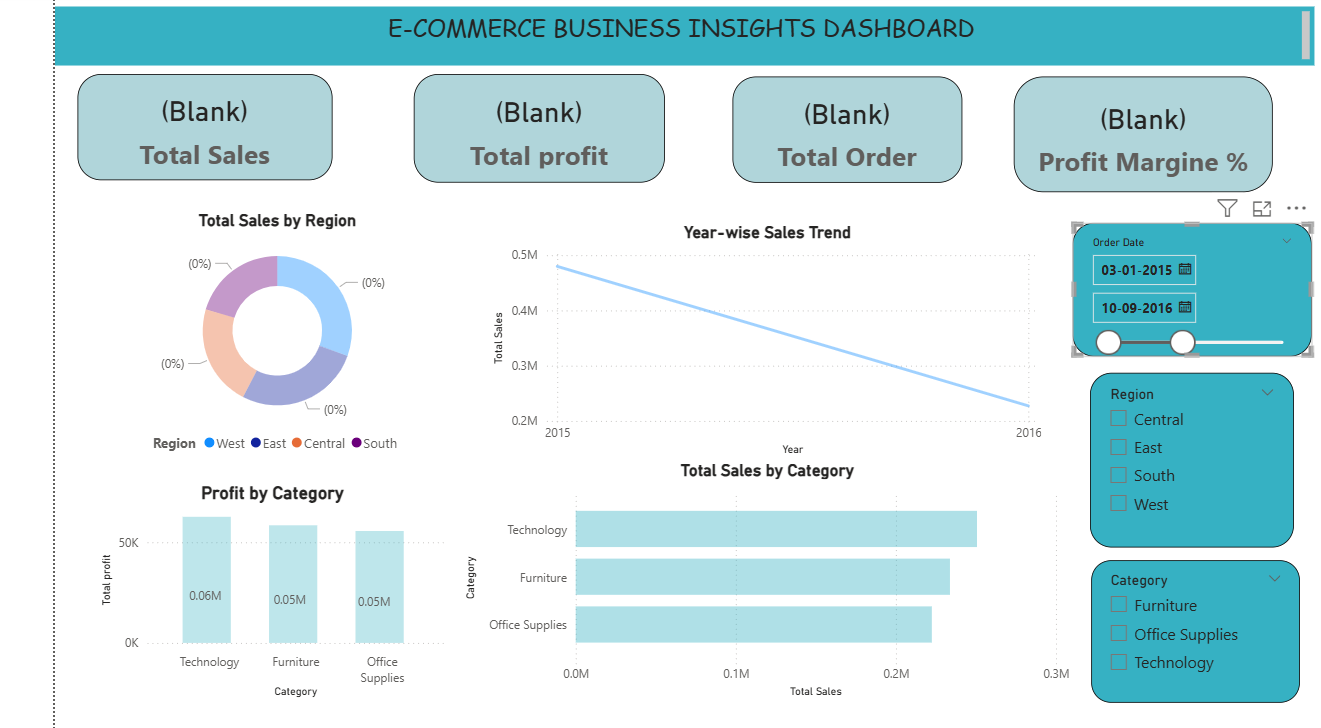

This screenshot's page, from the dashboard's own definition file:
{"tool":"powerbi","page":{"name":"Dashboard ","canvas":[1296,748],"ordinal":6},"visuals":[{"type":"card","fields":{"Values":["train.Total Sales"]},"box":[23.2,81.9,259.2,107.6],"z":0},{"type":"card","fields":{"Values":["train.Total profit"]},"box":[364.4,81.9,255.6,110.1],"z":1000},{"type":"card","fields":{"Values":["train.Total Order"]},"box":[688.5,84.4,233.6,107.6],"z":2000},{"type":"card","fields":{"Values":["train.Profit Margine %"]},"box":[974.6,84.4,262.9,117.4],"z":2001},{"type":"lineChart","title":"Year-wise Sales Trend","fields":{"Y":["train.Total Sales"],"Category":["train.Order Date.Variation.Date Hierarchy.Year","train.Order Date.Variation.Date Hierarchy.Quarter","train.Order Date.Variation.Date Hierarchy.Month","train.Order Date.Variation.Date Hierarchy.Day"]},"box":[448.8,232.3,566.2,242.1],"z":2002},{"type":"donutChart","fields":{"Category":["train.Region"],"Y":["train.Total Sales"]},"box":[41.6,207.9,407.2,255.6],"z":2003},{"type":"clusteredBarChart","fields":{"Y":["train.Total Sales"],"Category":["train.Category"]},"box":[412.1,474.5,624.9,245.8],"z":2004},{"type":"clusteredColumnChart","title":"Profit by Category","fields":{"Category":["train.Category"],"Y":["train.Total profit"]},"box":[41.6,496.5,358.3,223.8],"z":2005},{"type":"slicer","fields":{"Values":["train.Category"]},"box":[1053.2,575.5,212.2,144.8],"z":2006},{"type":"slicer","fields":{"Values":["train.Region"]},"box":[1051.9,384.9,207.1,177.9],"z":2007},{"type":"slicer","fields":{"Values":["train.Order Date"]},"box":[1034.5,232.3,243.3,135.7],"z":2008},{"type":"textbox","box":[0,12.2,1280.3,59.9],"z":2009}]}

Visuals, with their boxes on the page's 1296x748 design canvas (x1, y1, x2, y2). These are canvas units, not pixel positions in the 1321x728 screenshot, which may show the page scaled, cropped or inside an application window:
card - train.Total Sales: [x1=23, y1=82, x2=282, y2=190]
card - train.Total profit: [x1=364, y1=82, x2=620, y2=192]
card - train.Total Order: [x1=688, y1=84, x2=922, y2=192]
card - train.Profit Margine %: [x1=975, y1=84, x2=1238, y2=202]
"Year-wise Sales Trend" lineChart: [x1=449, y1=232, x2=1015, y2=474]
donutChart - train.Region x train.Total Sales: [x1=42, y1=208, x2=449, y2=464]
clusteredBarChart - train.Total Sales x train.Category: [x1=412, y1=474, x2=1037, y2=720]
"Profit by Category" clusteredColumnChart: [x1=42, y1=496, x2=400, y2=720]
slicer - train.Category: [x1=1053, y1=576, x2=1265, y2=720]
slicer - train.Region: [x1=1052, y1=385, x2=1259, y2=563]
slicer - train.Order Date: [x1=1034, y1=232, x2=1278, y2=368]
textbox: [x1=0, y1=12, x2=1280, y2=72]
